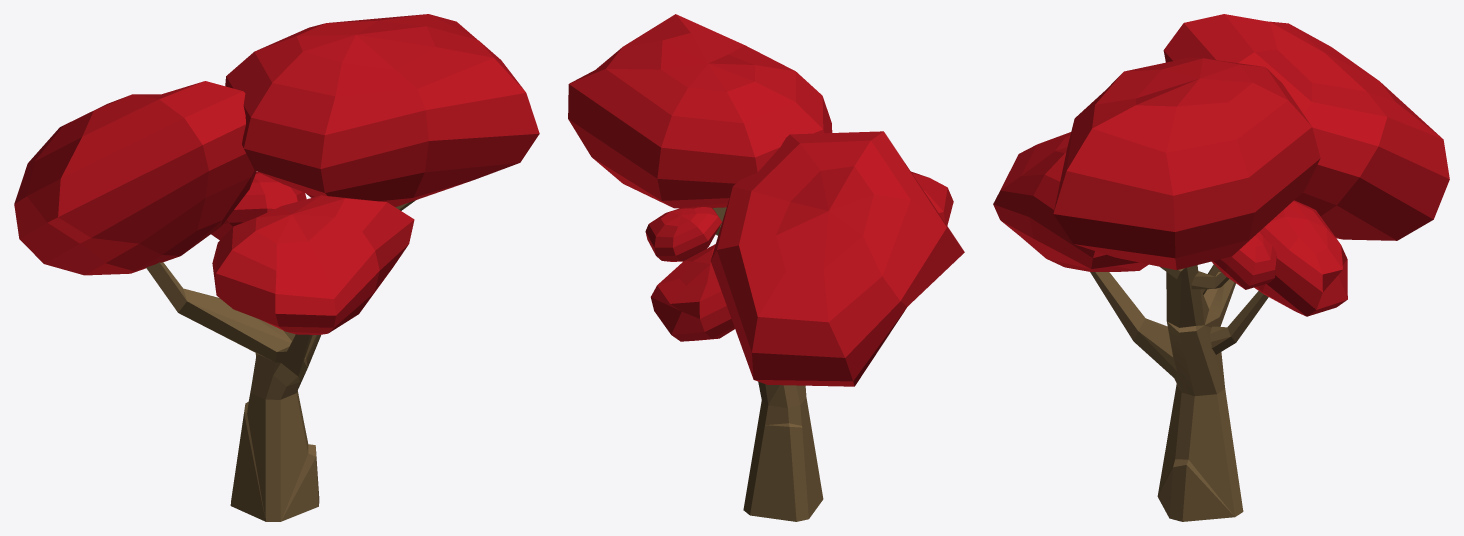
File: model_polytope_tree_red01.fbx
3 views of the same model, side by side, from view 1: azimuth 30°, elevation 25°; view 2: azimuth 150°, elevation 25°; view 3: azimuth 270°, elevation 25° (orthographic). The views are drawn at different scales.
Visible parts, largest first — view 1: model_polytope_tree_red01; view 2: model_polytope_tree_red01; view 3: model_polytope_tree_red01.
Boxes of the visible parts, box(x1,y1,x2,y2) form: model_polytope_tree_red01: box(14, 14, 539, 521); model_polytope_tree_red01: box(568, 14, 964, 521); model_polytope_tree_red01: box(993, 14, 1449, 521).
Bounding box in the file's own units: 434 × 439 × 387.
